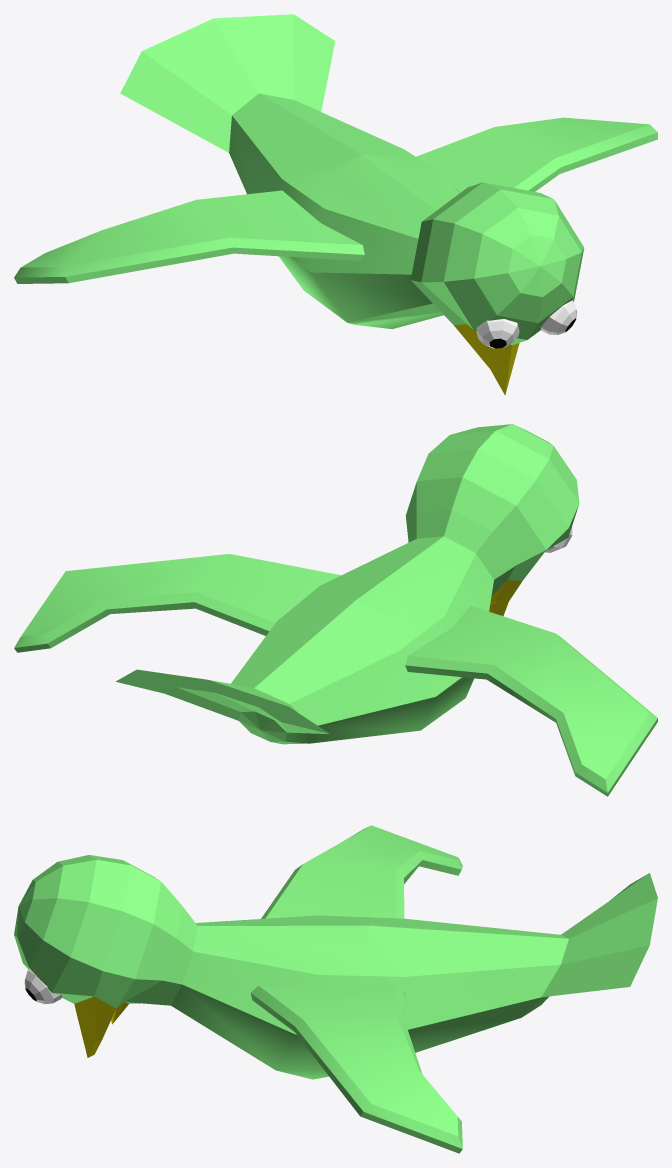
Rendered from Bird_4.fbx.
3 renders of one model, top to bottom at view 1: azimuth 30°, elevation 25°; view 2: azimuth 150°, elevation 25°; view 3: azimuth 270°, elevation 25°, orthographic. The views are drawn at different scales.
Parts seen in each view (by area): view 1: Bird; view 2: Bird; view 3: Bird.
Part boxes in pixels (<box>): Bird: <box>14,14,657,395</box>; Bird: <box>14,424,657,796</box>; Bird: <box>14,825,657,1153</box>.
Size of the model in its own units: 4.93 by 1.74 by 4.74.
